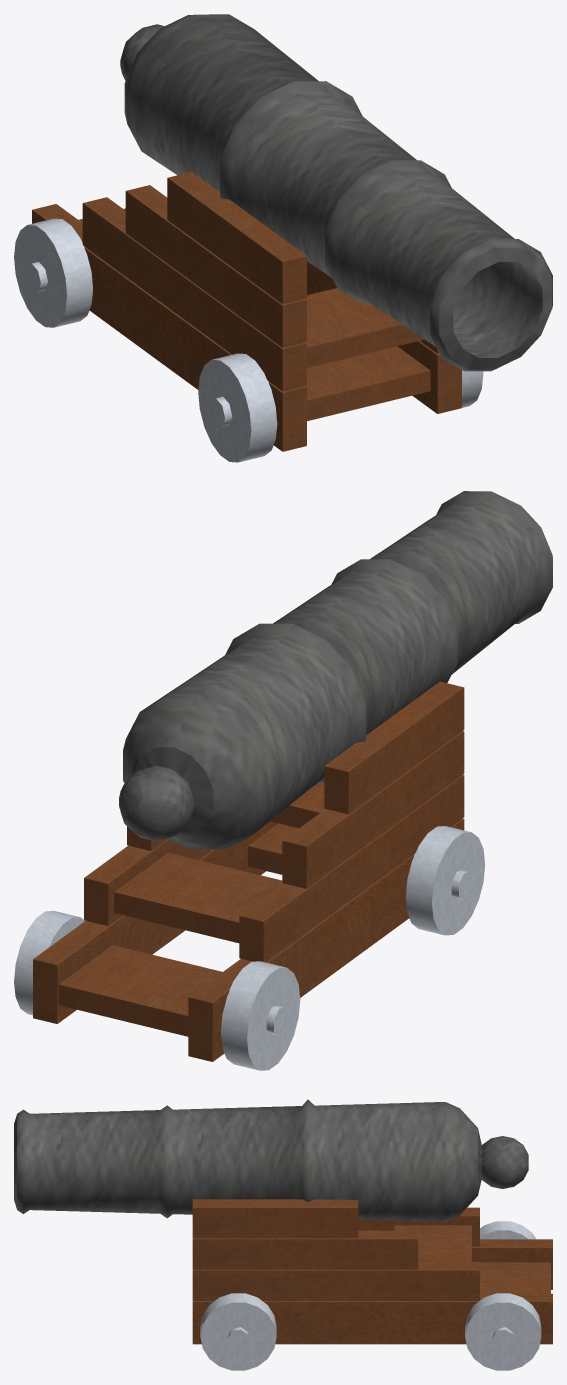
File: Canhao.FBX
3 renders of one model, top to bottom at view 1: azimuth 30°, elevation 25°; view 2: azimuth 150°, elevation 25°; view 3: azimuth 270°, elevation 25°, orthographic. The views are drawn at different scales.
Parts seen in each view (by area): view 1: Canhao, Carro; view 2: Carro, Canhao; view 3: Carro, Canhao.
Part boxes in pixels (bbox=[...]): Canhao: bbox=[120, 14, 552, 371]; Carro: bbox=[14, 172, 483, 462]; Carro: bbox=[14, 681, 485, 1070]; Canhao: bbox=[119, 491, 552, 849]; Carro: bbox=[192, 1199, 552, 1370]; Canhao: bbox=[14, 1099, 528, 1221].
Size of the model in its own units: 0.8469 by 1.03 by 2.23.
3 materials, 3 textured.
